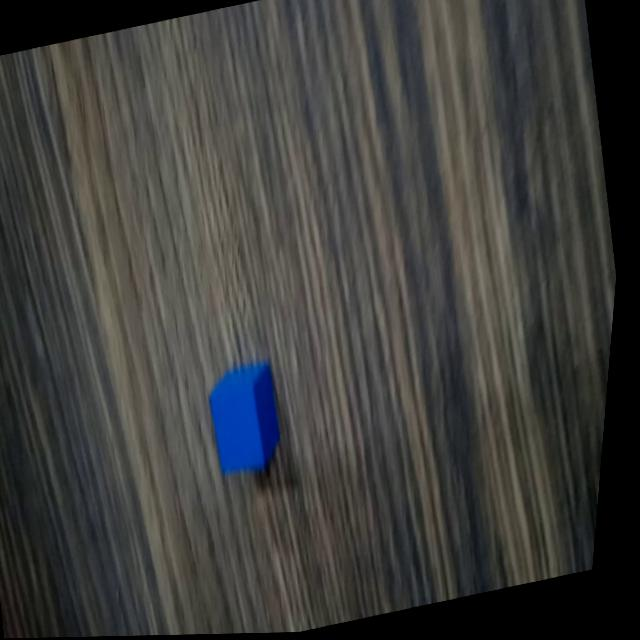cube: (203, 356, 302, 483)
